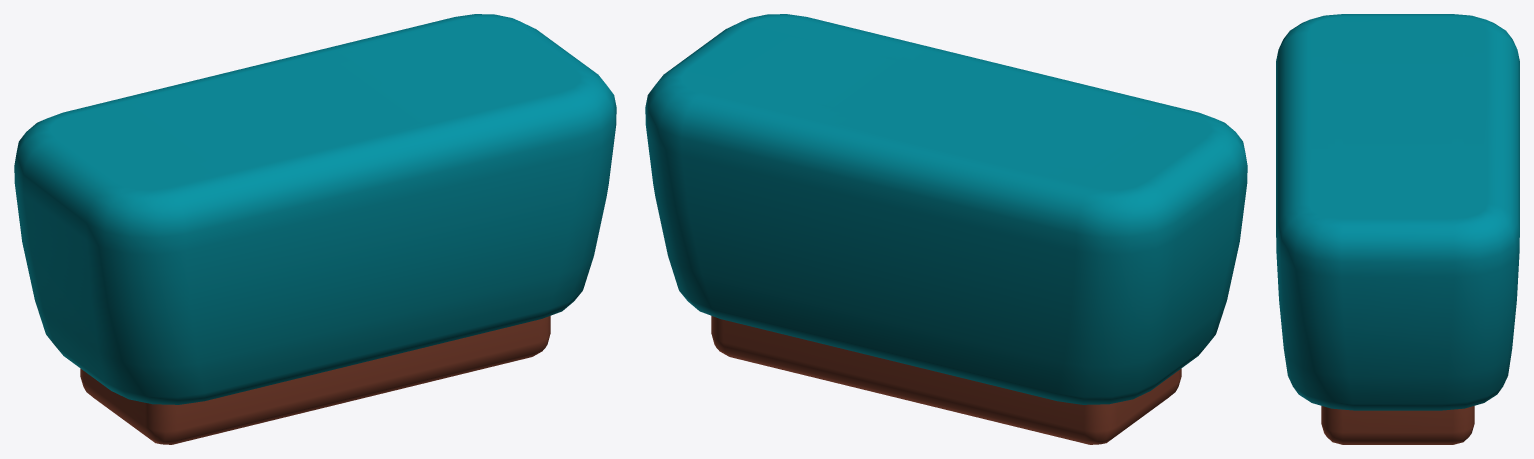
File: Pouf_01.glb
The picture shows the model from 3 angles, left to right: view 1: azimuth 30°, elevation 25°; view 2: azimuth 150°, elevation 25°; view 3: azimuth 270°, elevation 25°; orthographic projection. The views are drawn at different scales.
Parts seen in each view (by area): view 1: Pouf_01; view 2: Pouf_01; view 3: Pouf_01.
Boxes of the visible parts, bbox=[...] form: Pouf_01: bbox=[14, 14, 616, 444]; Pouf_01: bbox=[645, 14, 1247, 444]; Pouf_01: bbox=[1276, 14, 1519, 444].
Size of the model in its own units: 0.998 by 0.5 by 0.4491.
1 material, 1 textured.
